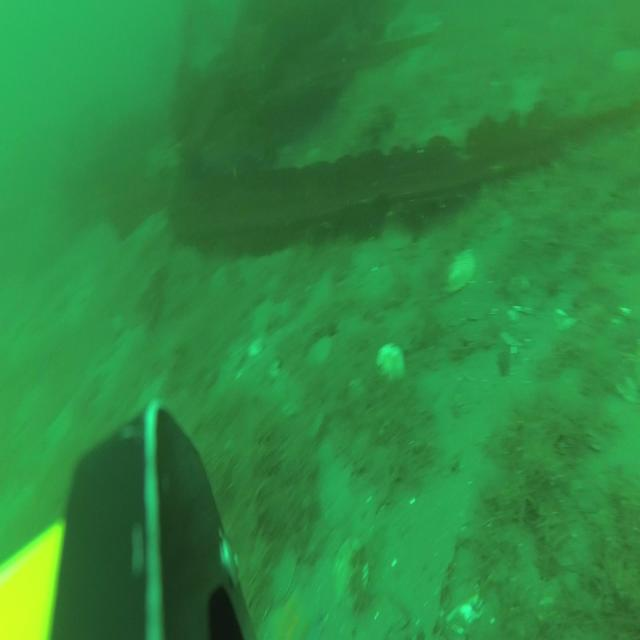scallop: (444, 246, 476, 289), (375, 344, 407, 381), (382, 223, 414, 252)
starfish: (266, 592, 320, 640)
